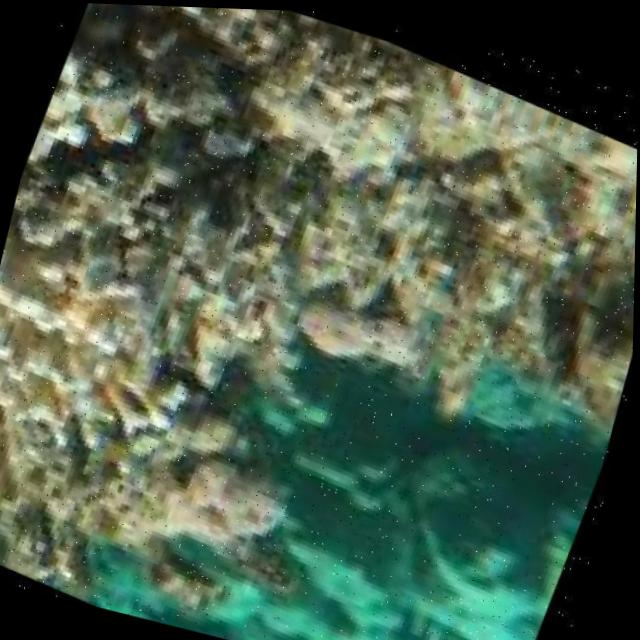Bleached Coral: (0, 264, 174, 486)
Dead Coral: (28, 1, 269, 317)
